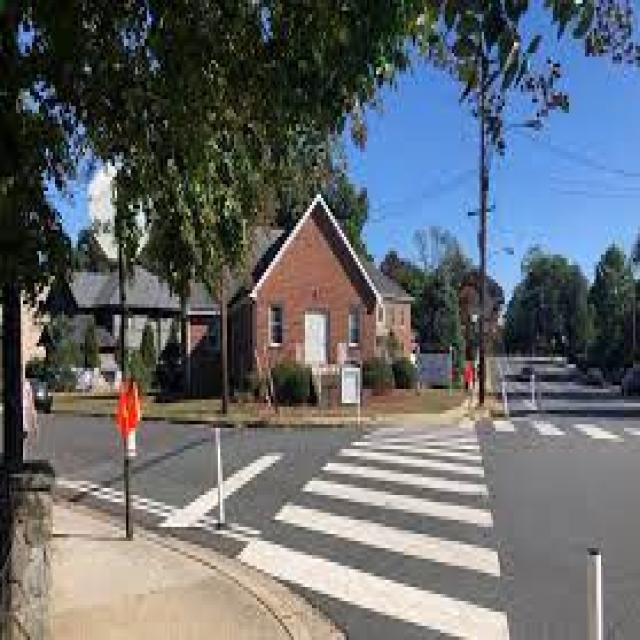Crosswalk: (234, 423, 510, 640)
